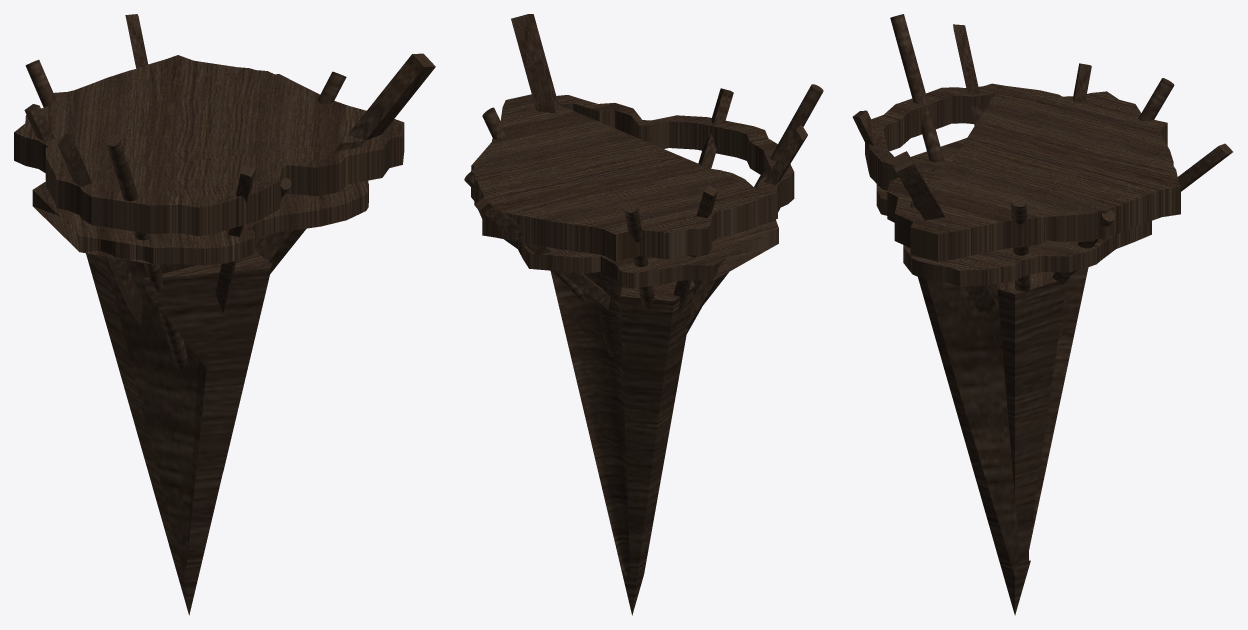
Rendered from fakkel.fbx.
3 views of the same model, side by side, from view 1: azimuth 30°, elevation 25°; view 2: azimuth 150°, elevation 25°; view 3: azimuth 270°, elevation 25° (orthographic). The views are drawn at different scales.
Parts seen in each view (by area): view 1: polySurface4, pPyramid4, polySurface2, pasted__pasted__pCube3 (×2), pasted__pCube3 (×2), pCylinder1, pasted__pCylinder1, pCube3; view 2: polySurface4, pPyramid4, polySurface2, pasted__pasted__pCube3 (×2), pasted__pCube3 (×2), pCylinder1, pasted__pCylinder1, pSphere1, pCube3; view 3: polySurface4, pPyramid4, polySurface2, pasted__pasted__pCube3 (×2), pCylinder1, pasted__pCube3 (×2), pasted__pCylinder1 (×2), pCube3.
Boxes of the visible parts, box(x1,y1,x2,y2) form: polySurface4: box(14, 55, 404, 236); pPyramid4: box(86, 236, 271, 615); polySurface2: box(32, 180, 368, 264); pasted__pasted__pCube3 (×2): box(125, 14, 435, 274); pasted__pCube3 (×2): box(57, 133, 255, 324); pCylinder1: box(106, 135, 186, 371); pasted__pCylinder1: box(25, 60, 57, 107); pCube3: box(24, 104, 96, 260); polySurface4: box(471, 94, 794, 261); pPyramid4: box(550, 270, 728, 615); polySurface2: box(504, 169, 778, 288); pasted__pasted__pCube3 (×2): box(475, 14, 610, 309); pasted__pCube3 (×2): box(687, 88, 807, 330); pCylinder1: box(687, 84, 823, 333); pasted__pCylinder1: box(624, 201, 654, 309); pSphere1: box(598, 273, 615, 356); pCube3: box(673, 185, 717, 314); polySurface4: box(865, 83, 1180, 261); pPyramid4: box(918, 267, 1088, 615); polySurface2: box(876, 138, 1151, 286); pasted__pasted__pCube3 (×2): box(889, 143, 1232, 351); pCylinder1: box(890, 14, 944, 171); pasted__pCube3 (×2): box(852, 24, 983, 148); pasted__pCylinder1 (×2): box(1011, 78, 1174, 291); pCube3: box(1073, 63, 1091, 102).
Size of the model in its own units: 3.06 by 4.8 by 3.05.
Materials: 1 (1 with a texture image).
